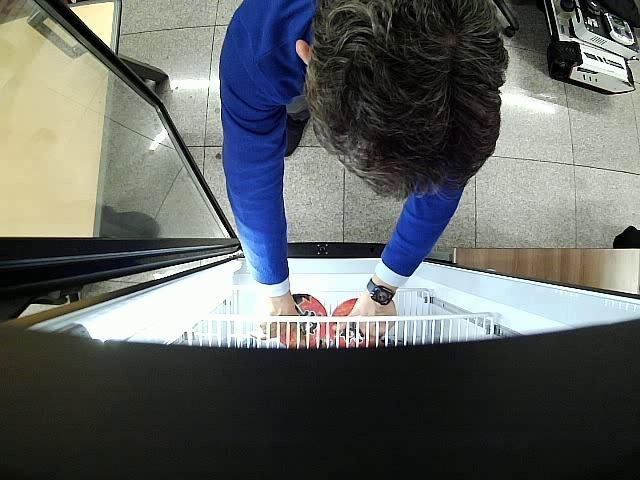01_ShinRamen_L: (280, 294, 327, 350), (329, 299, 368, 348)
